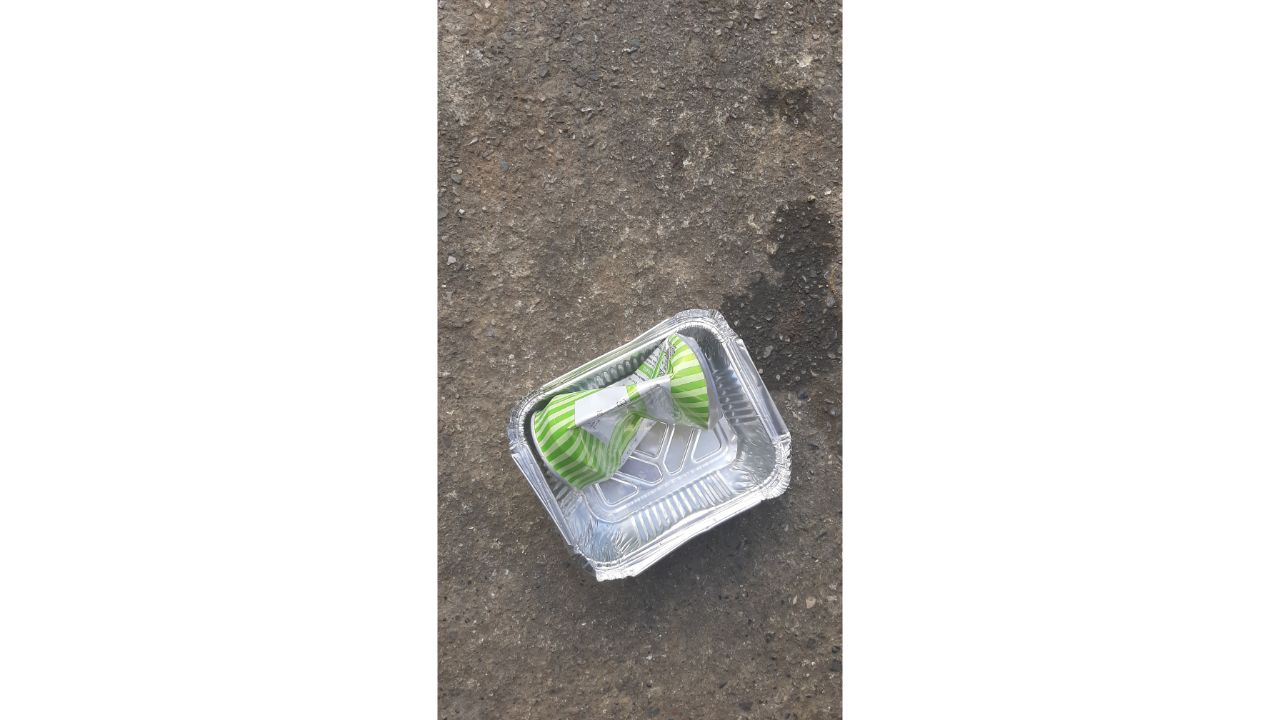Can: (519, 327, 724, 499)
